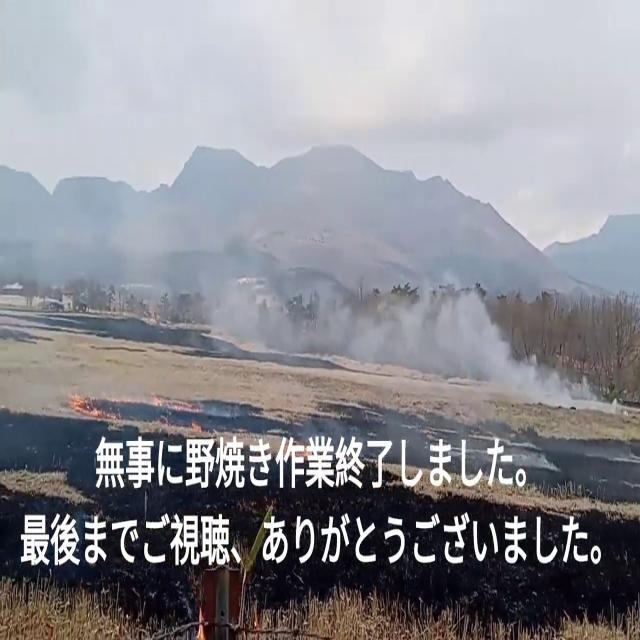Smoke: (312, 256, 536, 404)
